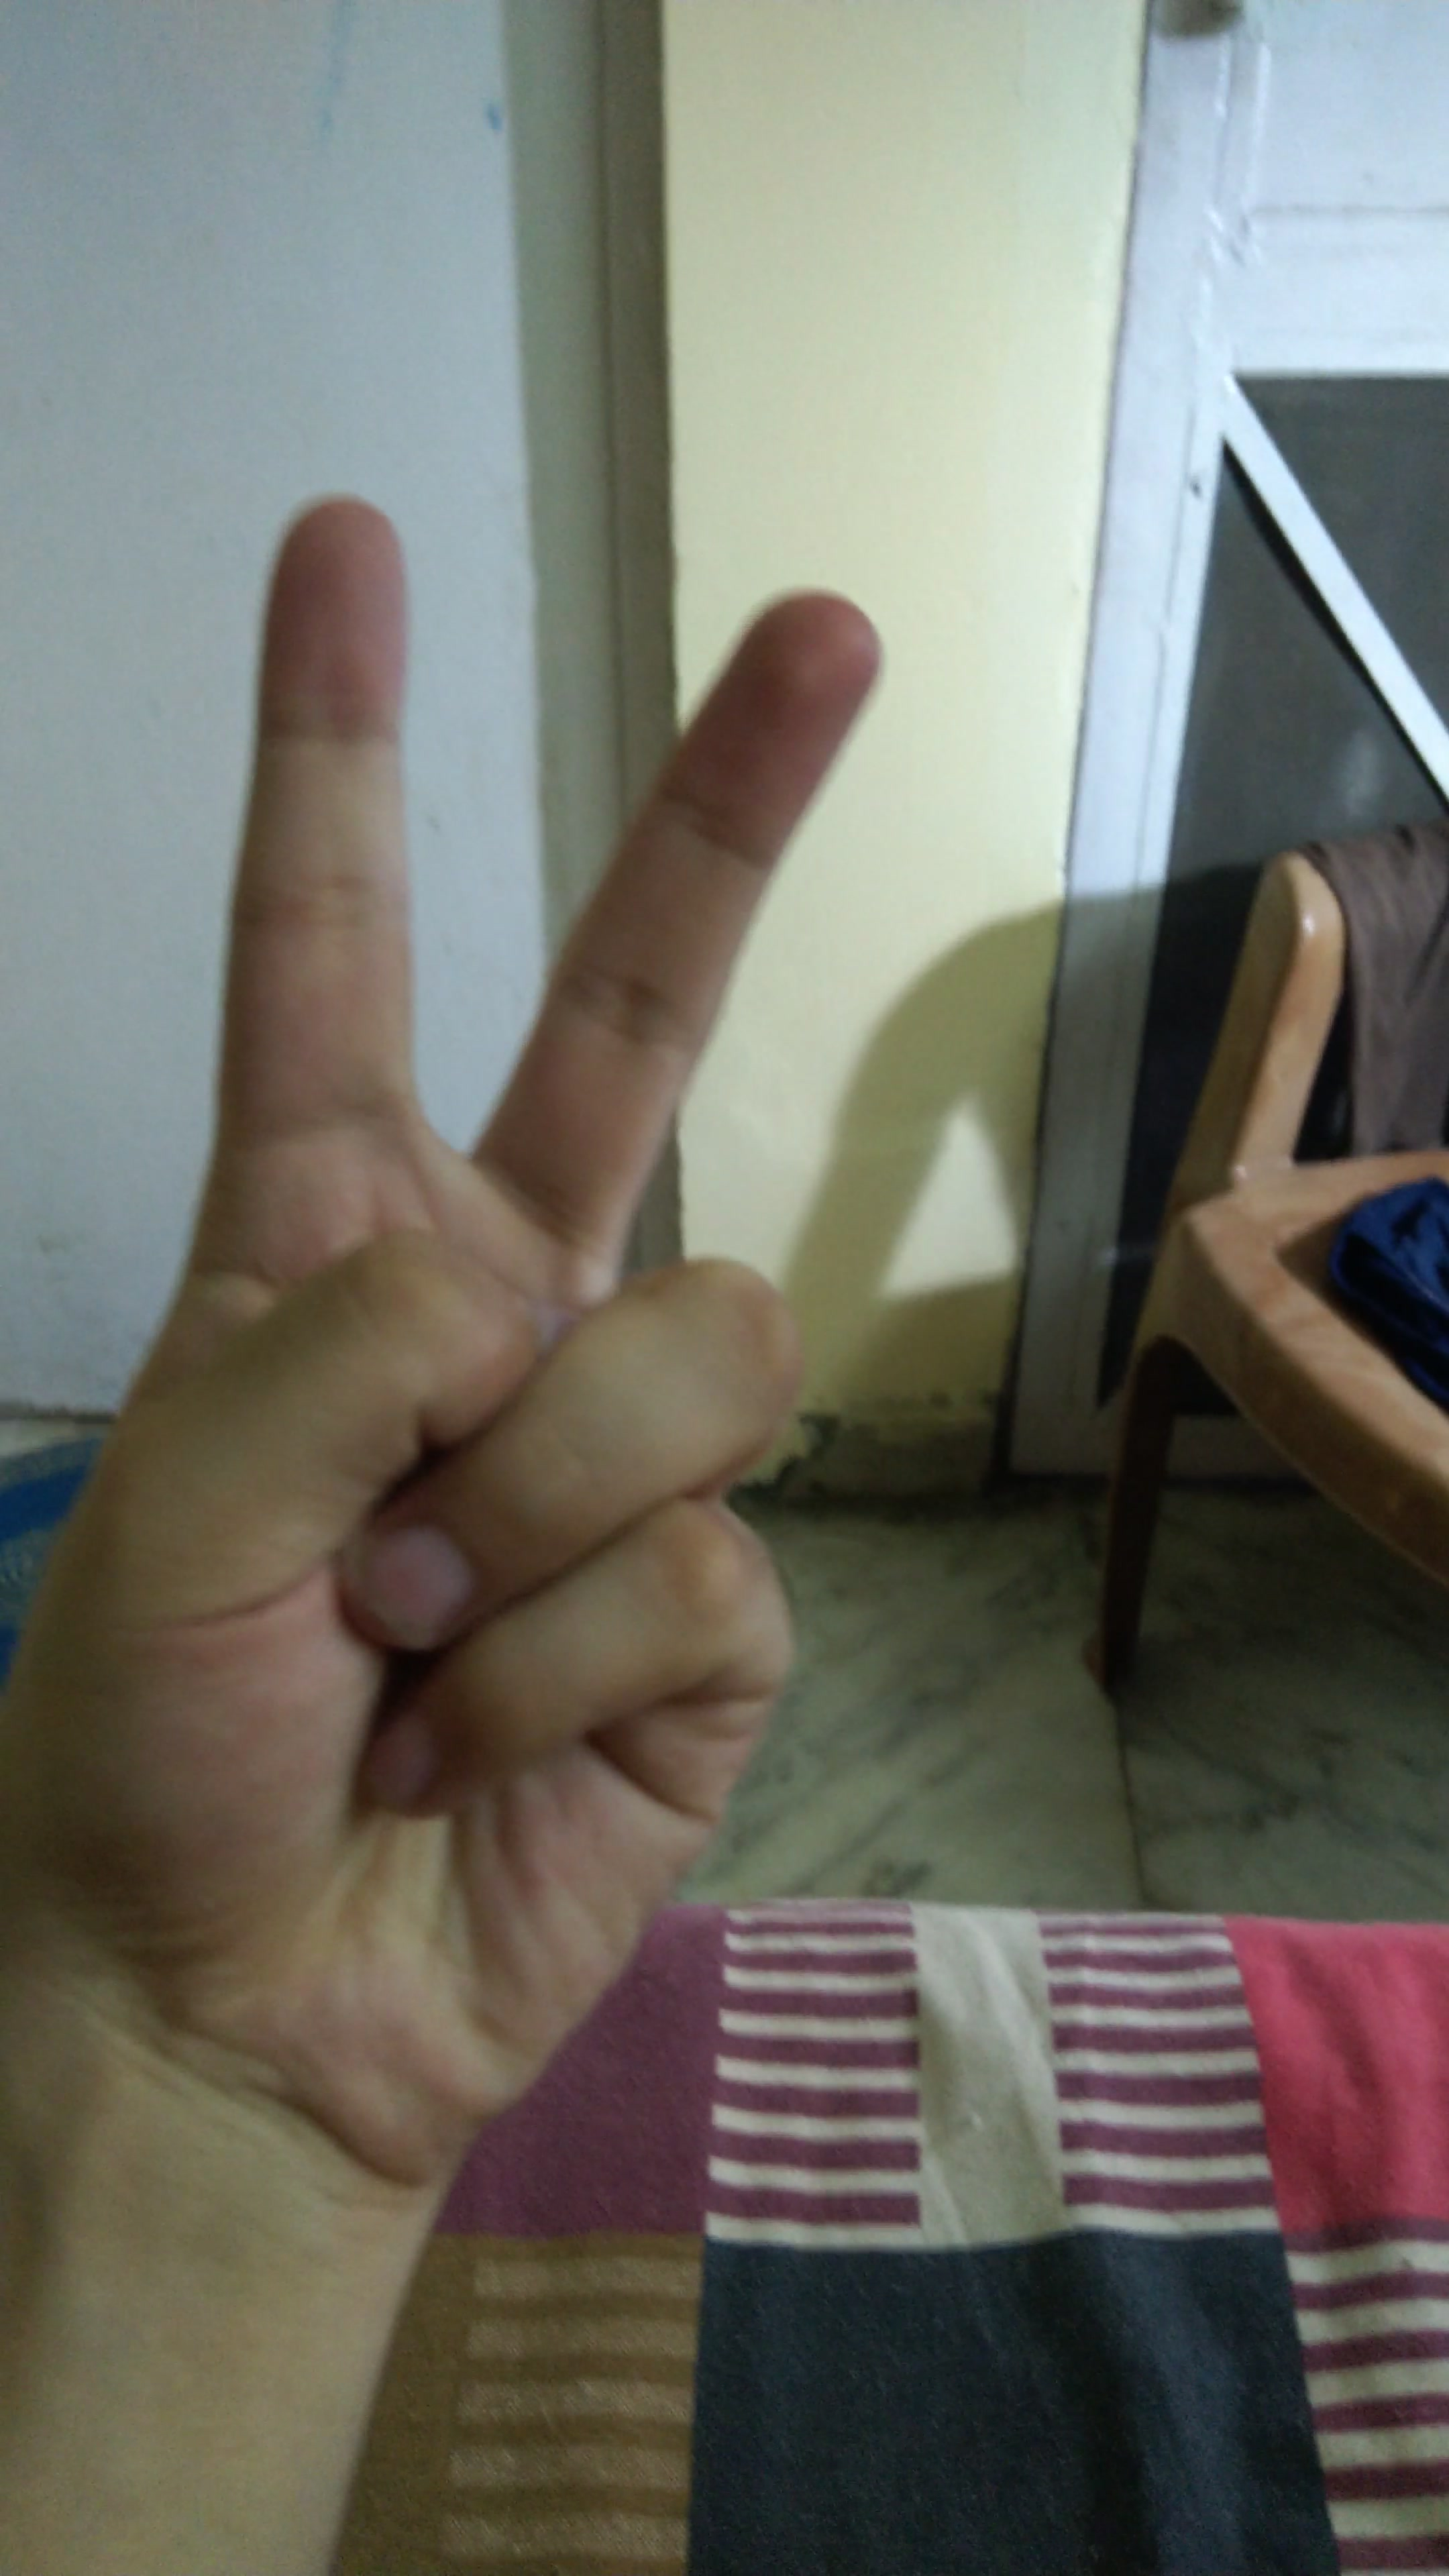hand: (50, 441, 977, 2123)
